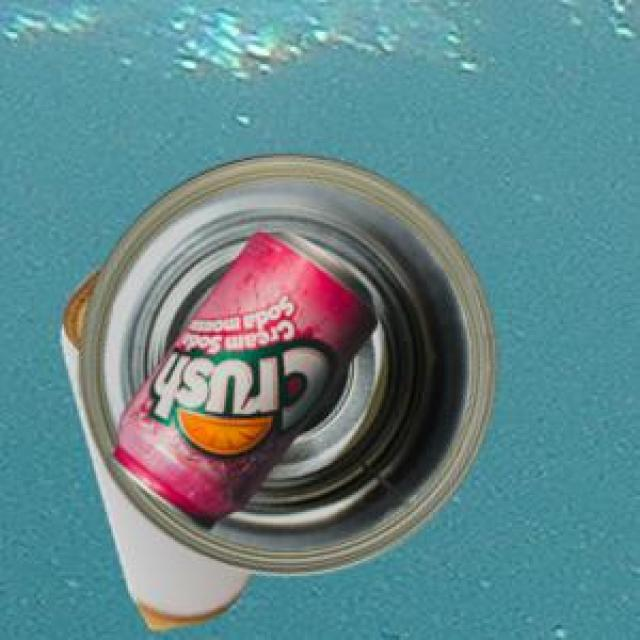Can: (76, 153, 494, 573), (106, 229, 374, 528), (59, 263, 251, 626)
